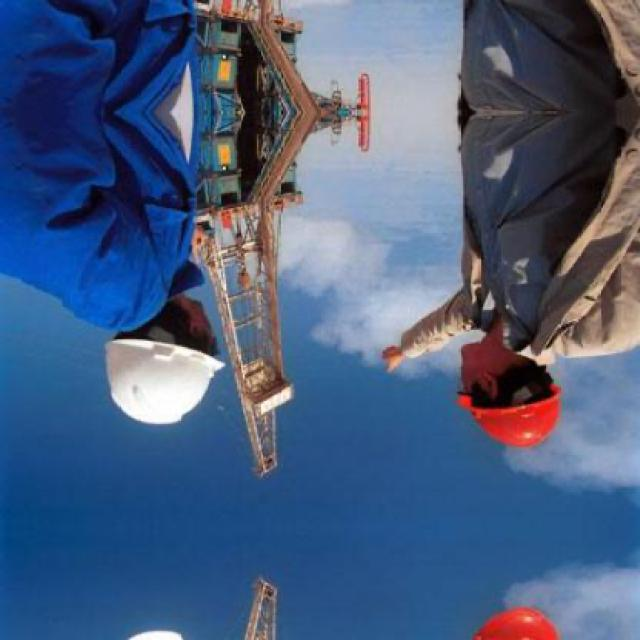con casco: (366, 267, 602, 462), (57, 283, 247, 447)
